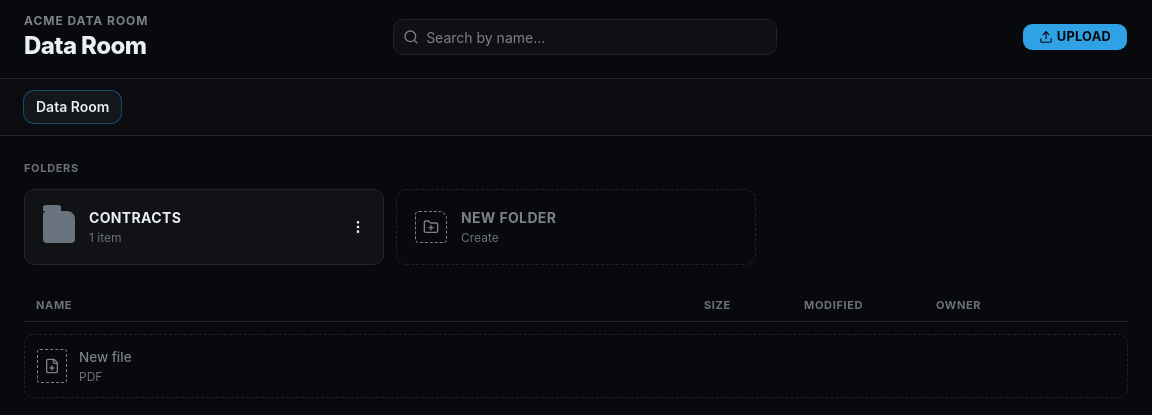
Test: DataRoomPage › opens a folder from search and clears the query
Expected: the button "New folder Create" is shown, [396,188,756,264]
In the field with placeholder "Search by name...": (585,37) [393,19,777,55], type "Nested"
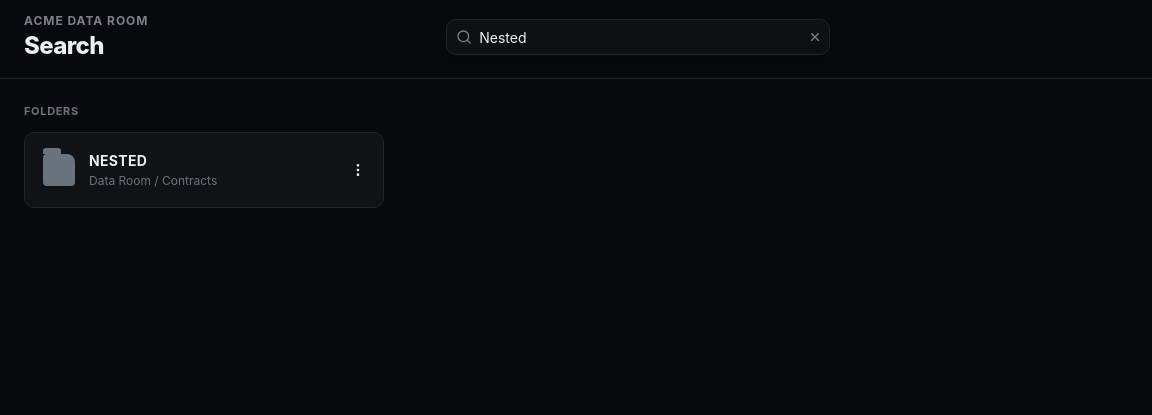
Click the link "Nested Data Room / Contracts": (130,170) [43,152,217,188]
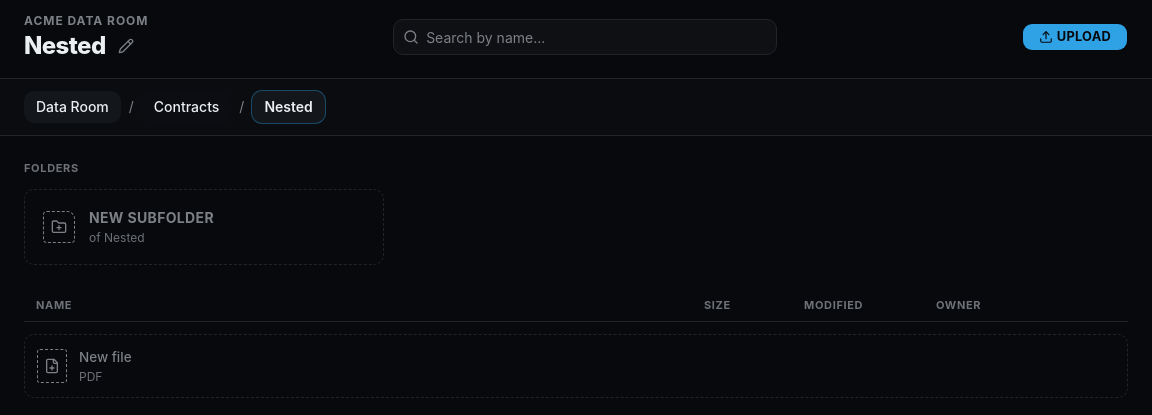
Expected: the button "New subfolder of Nested" is shown, [24,188,384,264]
Expected: the field with placeholder "Search by name..." is empty, [393,19,777,55]
Expected: the navigation bar is shown, [0,79,1151,136]
